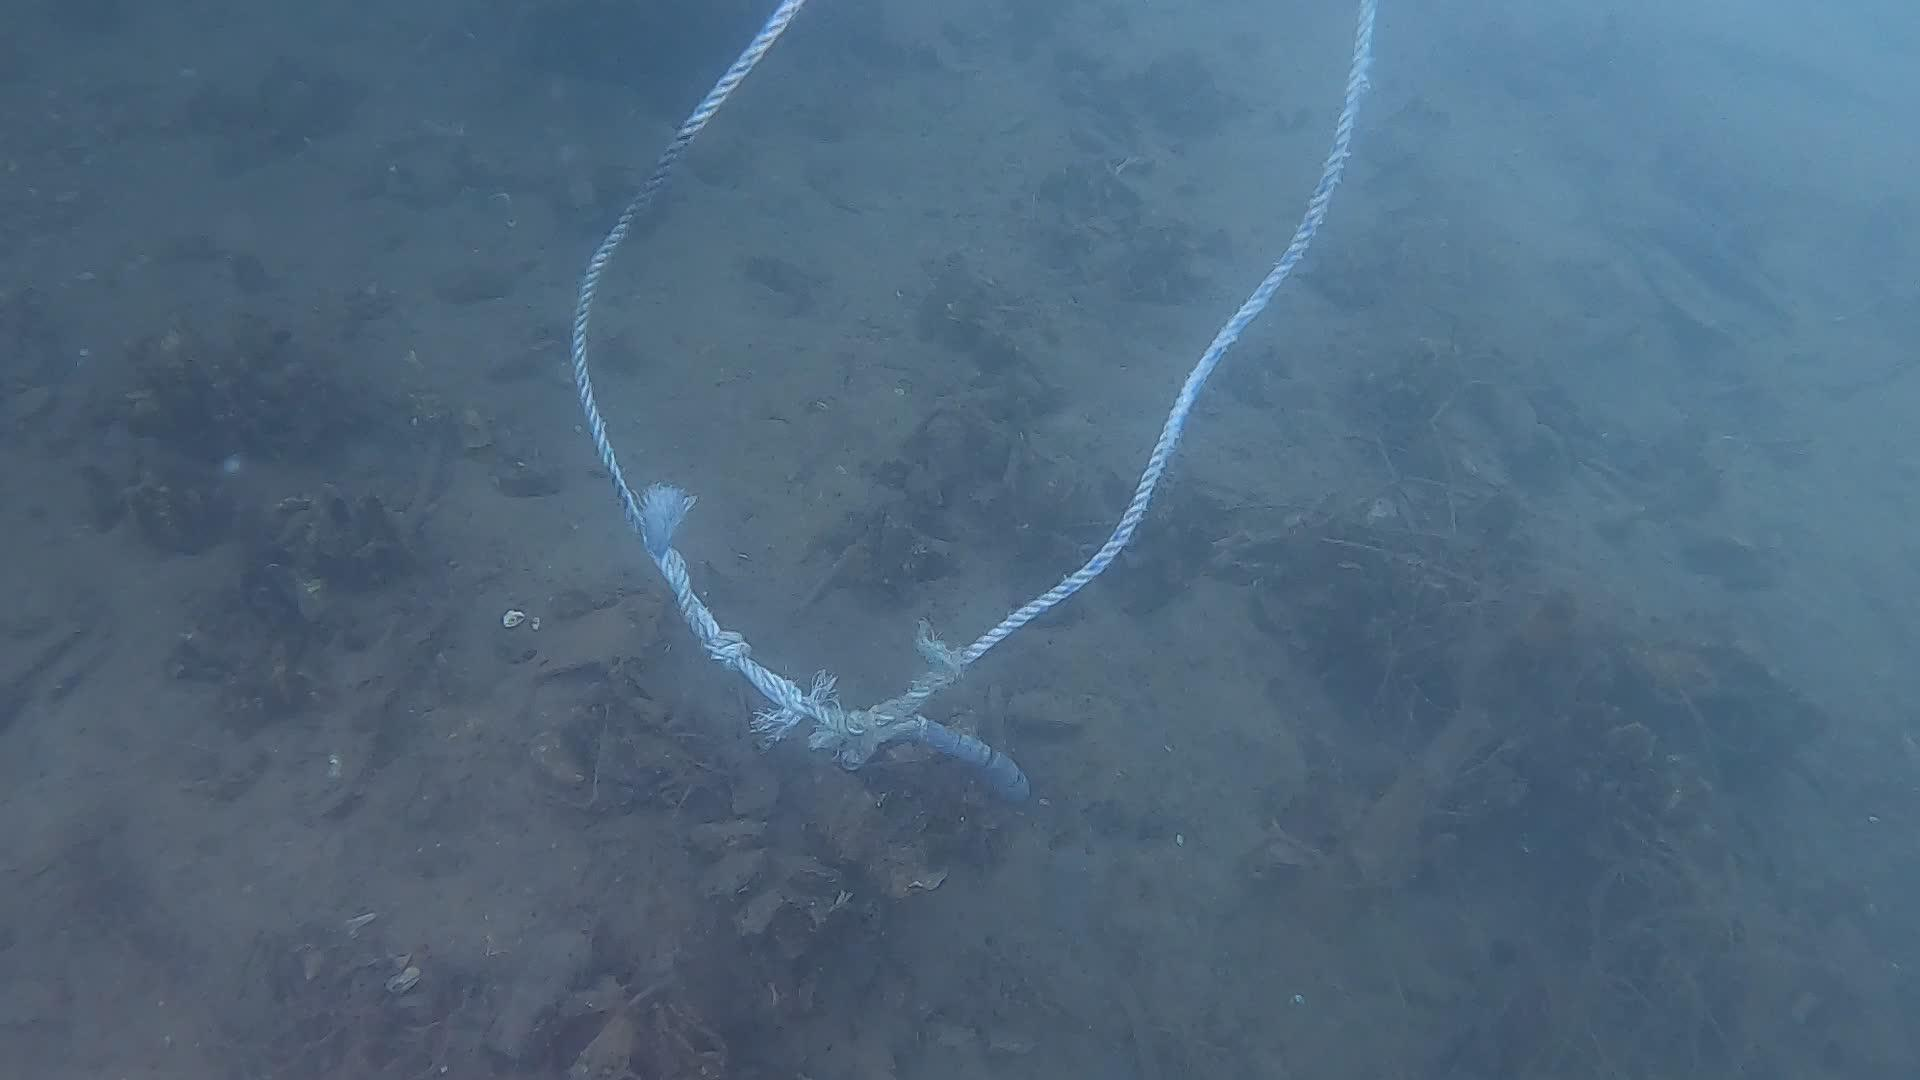bundle of ropes: (568, 0, 1375, 733)
